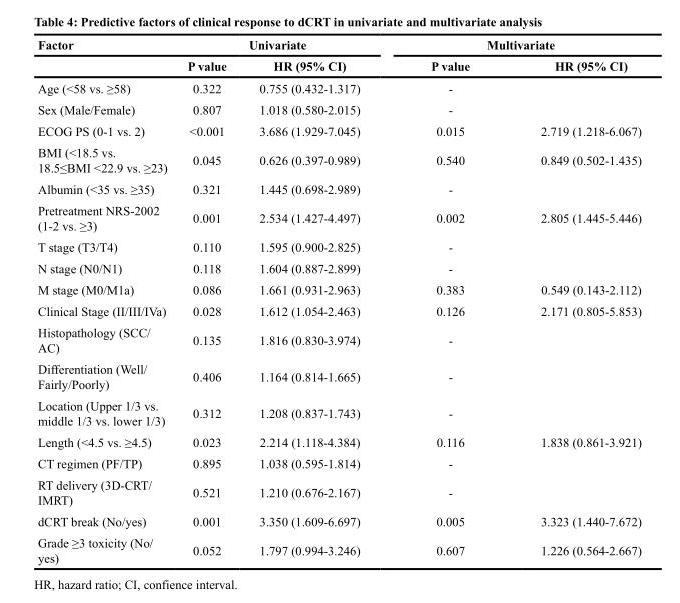table: (37, 37, 640, 564)
table column: (242, 37, 394, 564), (37, 37, 176, 564), (504, 37, 640, 564), (394, 37, 504, 564), (176, 37, 242, 564)
table column header: (37, 37, 640, 76)
table row: (37, 357, 640, 394), (37, 473, 640, 510), (37, 141, 640, 177), (37, 199, 640, 235), (37, 321, 640, 357), (37, 394, 640, 430), (37, 531, 640, 564), (37, 54, 640, 76), (37, 76, 640, 98), (37, 98, 640, 120), (37, 177, 640, 199), (37, 235, 640, 257), (37, 278, 640, 300), (37, 430, 640, 452), (37, 120, 640, 141), (37, 257, 640, 278), (37, 300, 640, 321), (37, 452, 640, 473), (37, 510, 640, 531), (37, 37, 640, 54)
table spanning cell: (37, 37, 176, 76), (394, 37, 640, 54), (176, 37, 394, 54)
